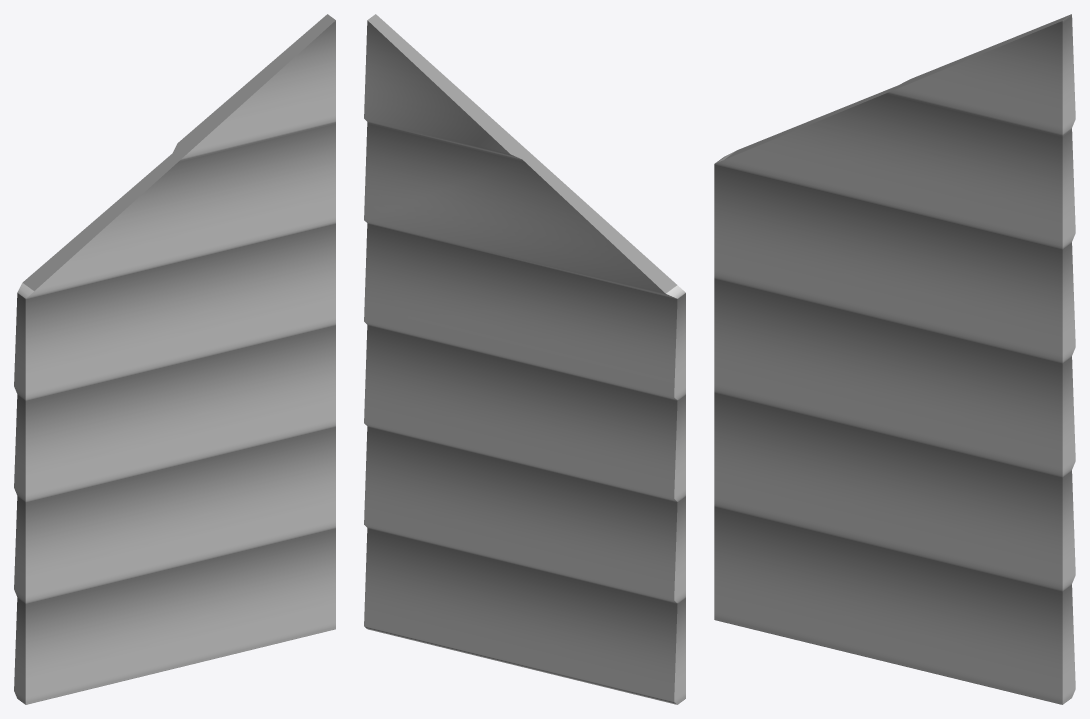
Rendered from Wall_Exterior_Angled_6.fbx.
The picture shows the model from 3 angles, left to right: view 1: azimuth 30°, elevation 25°; view 2: azimuth 150°, elevation 25°; view 3: azimuth 330°, elevation 25°; orthographic projection. The views are drawn at different scales.
Parts seen in each view (by area): view 1: Wall_Exterior_Angled_6; view 2: Wall_Exterior_Angled_6; view 3: Wall_Exterior_Angled_6.
Part boxes in pixels (x1,y1,x2,y2): Wall_Exterior_Angled_6: (14,14,335,704); Wall_Exterior_Angled_6: (364,14,685,704); Wall_Exterior_Angled_6: (714,14,1075,704).
Bounding box in the file's own units: 1 × 1.88 × 0.066.
